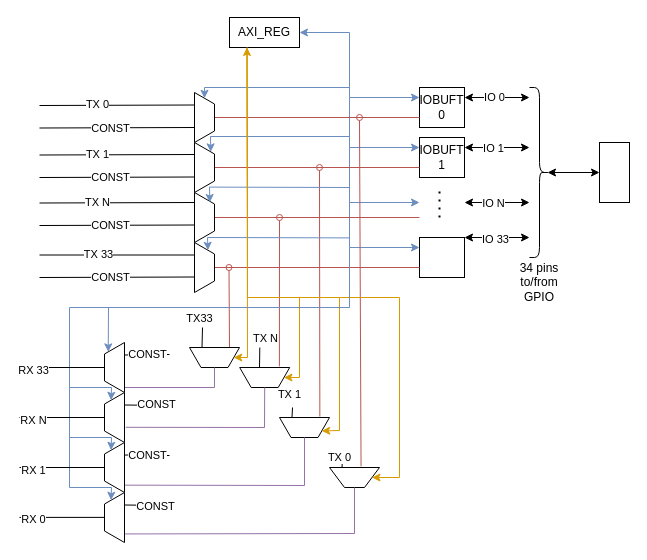
The diagram is 647 pixels wide and 560 high, and some of its shapes have lost their labels. Here are the shapes that lost their labels. From the top down, the box of each, then its label:
(598, 142, 630, 202): GPIO PHY
(418, 236, 464, 278): IOBUFT 33
